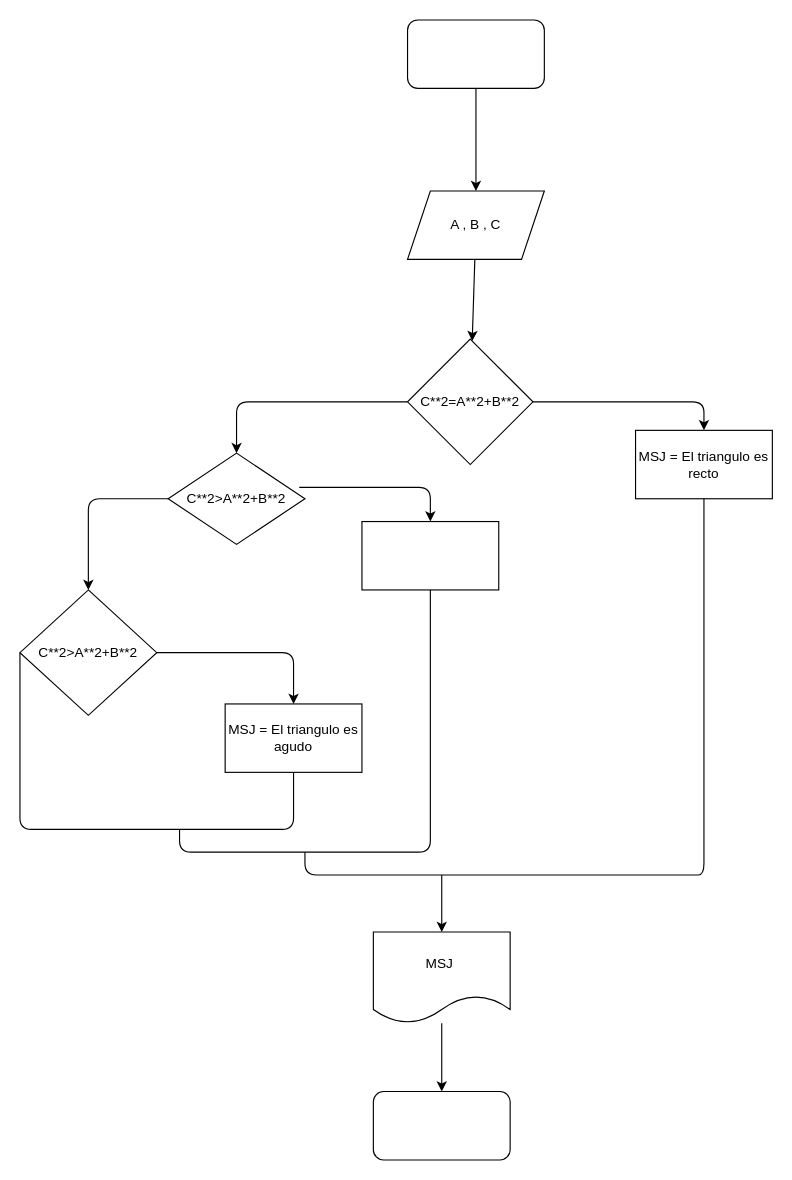
This 792x1180 diagram has some shape labels left out. The box of each missing label's shape, as (x1, y1, x2, y2) in pixels:
FIN: (372, 1090, 510, 1160)
INICIO: (406, 19, 544, 88)
MSJ = El triangulo es obtuso: (361, 520, 499, 590)
